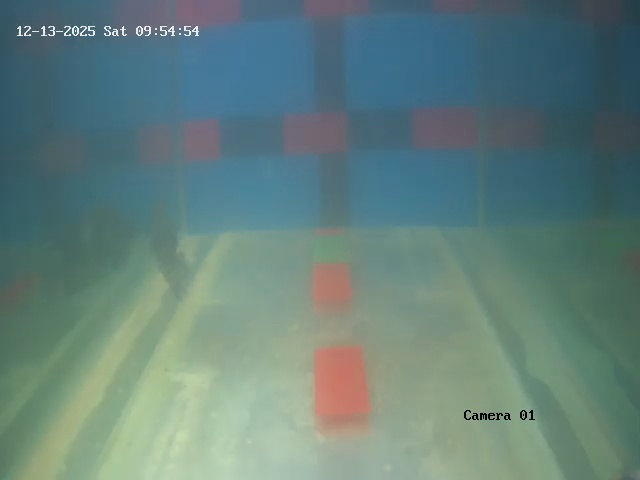fish: (132, 197, 217, 304)
